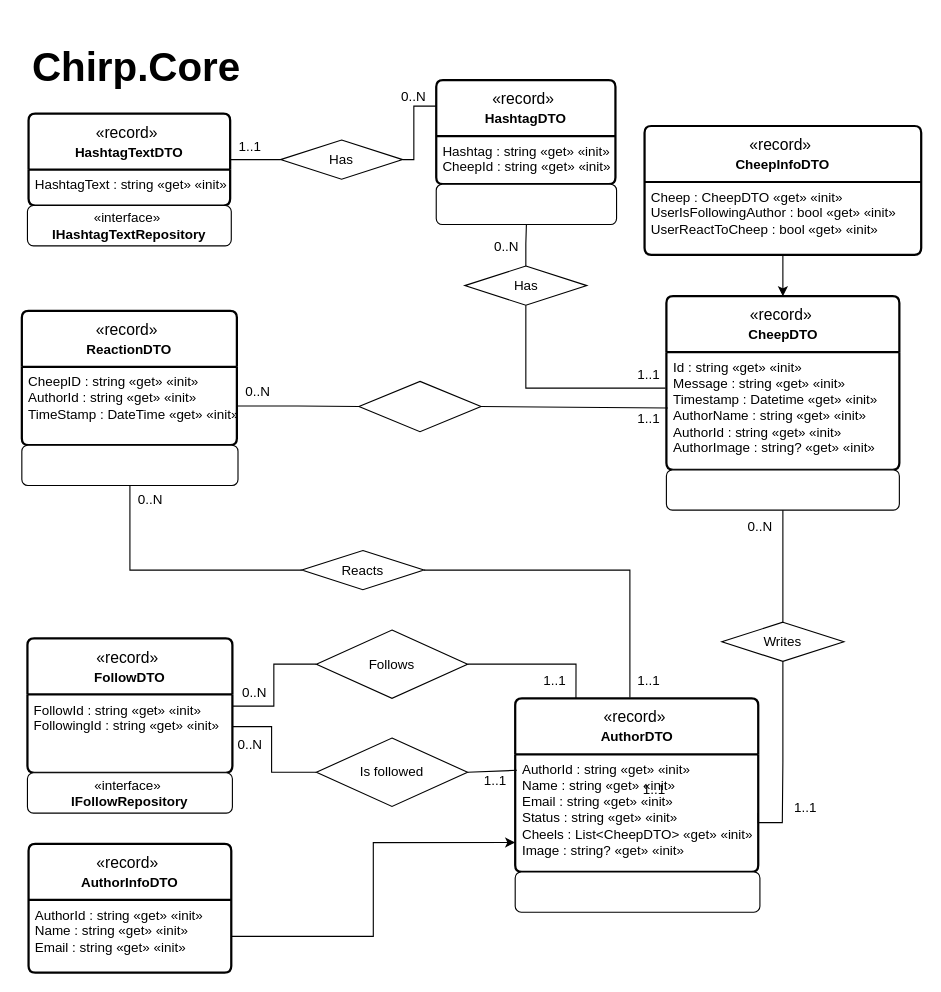
This 941x992 diagram has some shape labels left out. Here are the shapes that lost their labels. From the top down, the centre of each, then its label:
At (526,204): "«interface» IHashtagRepository".
At (419,406): "Is reacted to".
At (129,465): "«interface» IReactionRepository".
At (782,489): "«interface» ICheepRepository".
At (637,891): "«interface» IAuthorRepository".
